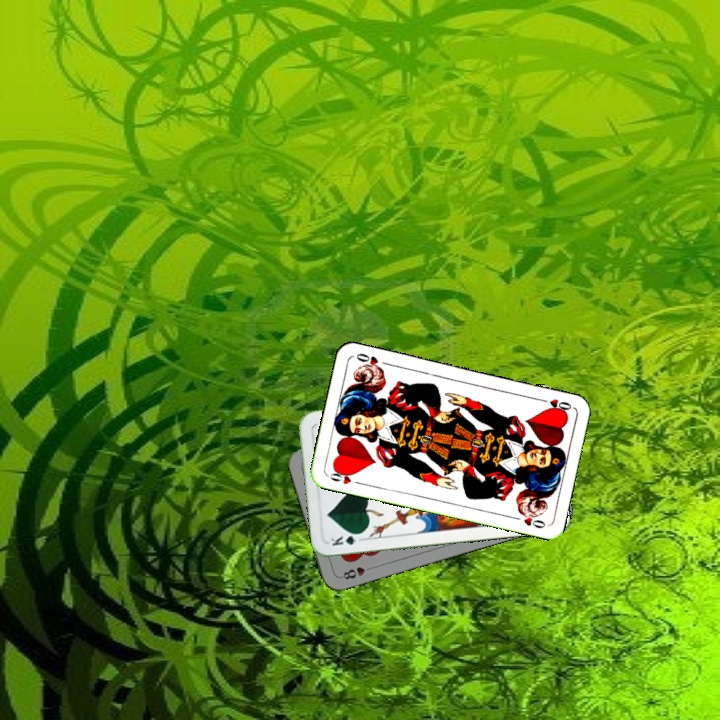GK: (327, 529, 366, 548)
H8: (336, 562, 376, 582)
HO: (324, 465, 364, 487), (535, 394, 574, 415)
